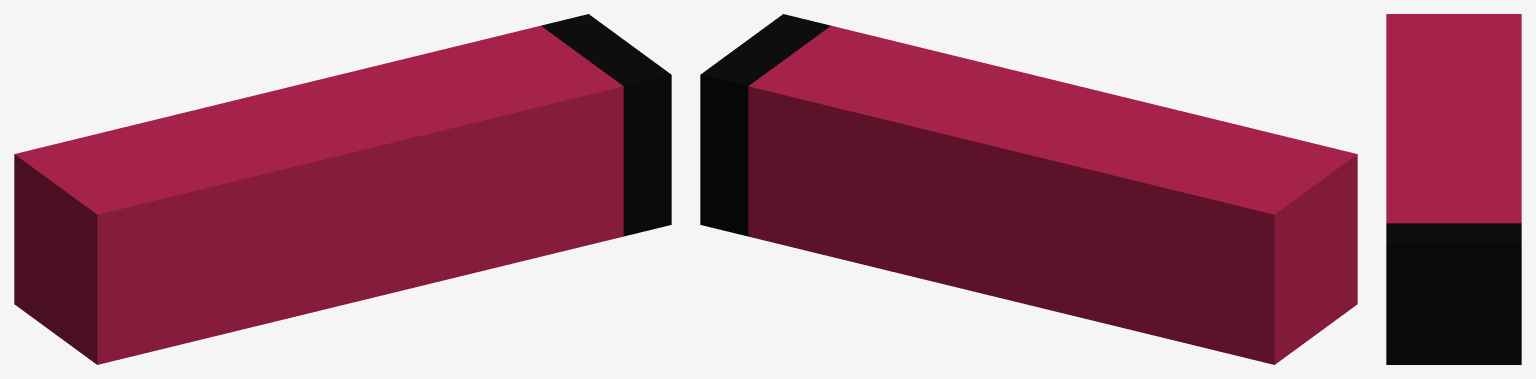
File: jane_doe_leg.dae
3 renders of one model, left to right at view 1: azimuth 30°, elevation 25°; view 2: azimuth 150°, elevation 25°; view 3: azimuth 270°, elevation 25°, orthographic. The views are drawn at different scales.
Parts seen in each view (by area): view 1: PlaneCOL; view 2: PlaneCOL; view 3: PlaneCOL.
Boxes of the visible parts, x1,y1,x2,y2 form: PlaneCOL: [14, 14, 671, 364]; PlaneCOL: [700, 14, 1357, 364]; PlaneCOL: [1386, 14, 1521, 364].
Bounding box in the file's own units: 1.2 × 0.3 × 0.3.
